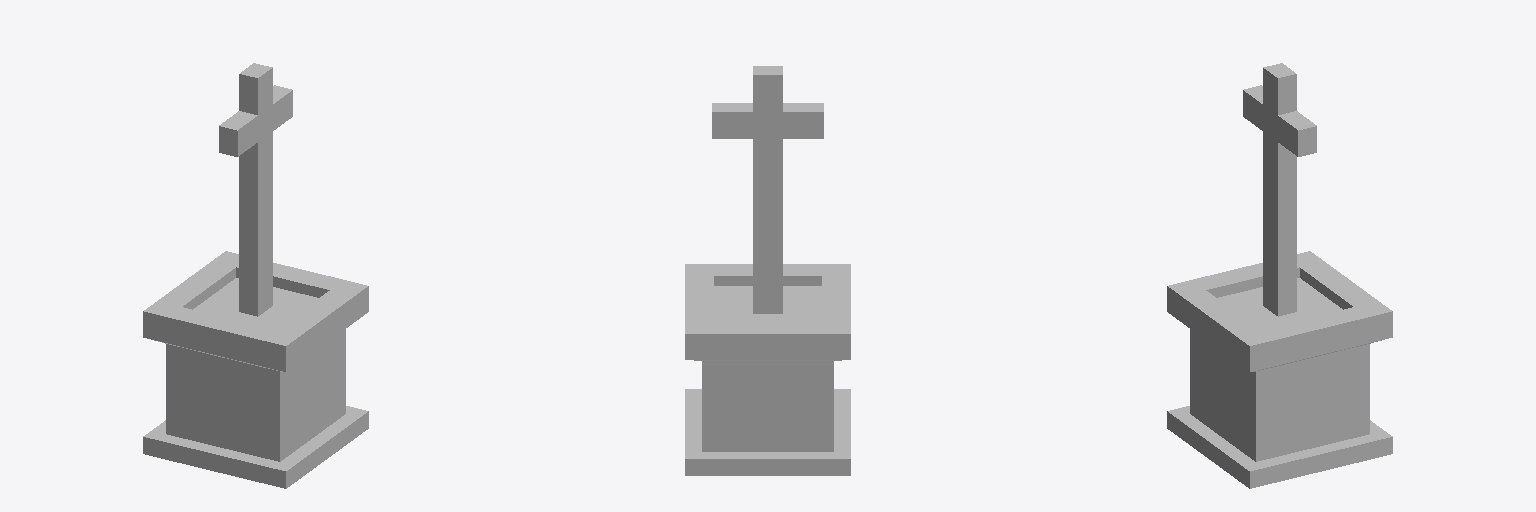
File: Cross_Wood_4 3.obj
The picture shows the model from 3 angles: view 1: azimuth 30°, elevation 25°; view 2: azimuth 150°, elevation 25°; view 3: azimuth 270°, elevation 25°; orthographic projection.
Visible parts, largest first — view 1: Cross_Wood_4; view 2: Cross_Wood_4; view 3: Cross_Wood_4.
Part boxes in pixels (bbox=[...]): Cross_Wood_4: bbox=[143, 63, 368, 488]; Cross_Wood_4: bbox=[685, 66, 850, 475]; Cross_Wood_4: bbox=[1167, 63, 1392, 488].
Bounding box in the file's own units: 0.5874 × 1.06 × 0.5874.